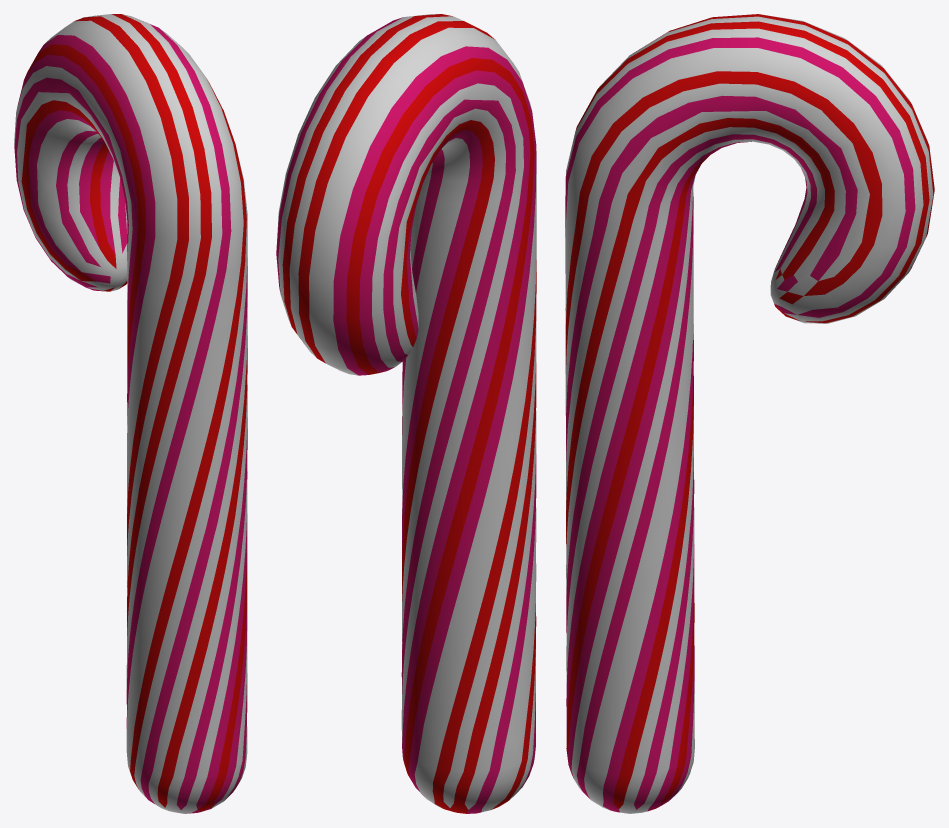
Rendered from simple_candycane.obj.
The picture shows the model from 3 angles, left to right: view 1: azimuth 30°, elevation 25°; view 2: azimuth 150°, elevation 25°; view 3: azimuth 270°, elevation 25°; orthographic projection. The views are drawn at different scales.
Visible parts, largest first — view 1: Sphere; view 2: Sphere; view 3: Sphere.
Part boxes in pixels (left/top/right/bottom): Sphere: left=14, top=14, right=247, bottom=813; Sphere: left=276, top=14, right=536, bottom=813; Sphere: left=565, top=14, right=934, bottom=813.
Bounding box in the file's own units: 2 × 13.54 × 5.76.
